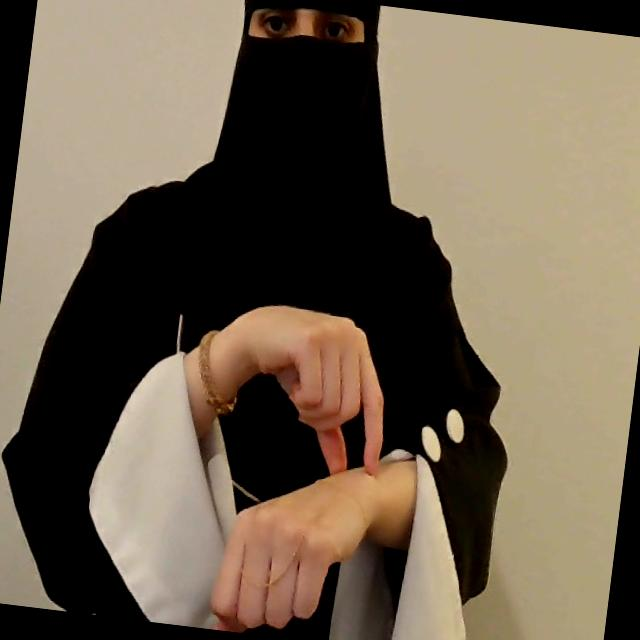appointment: (196, 295, 403, 640)
